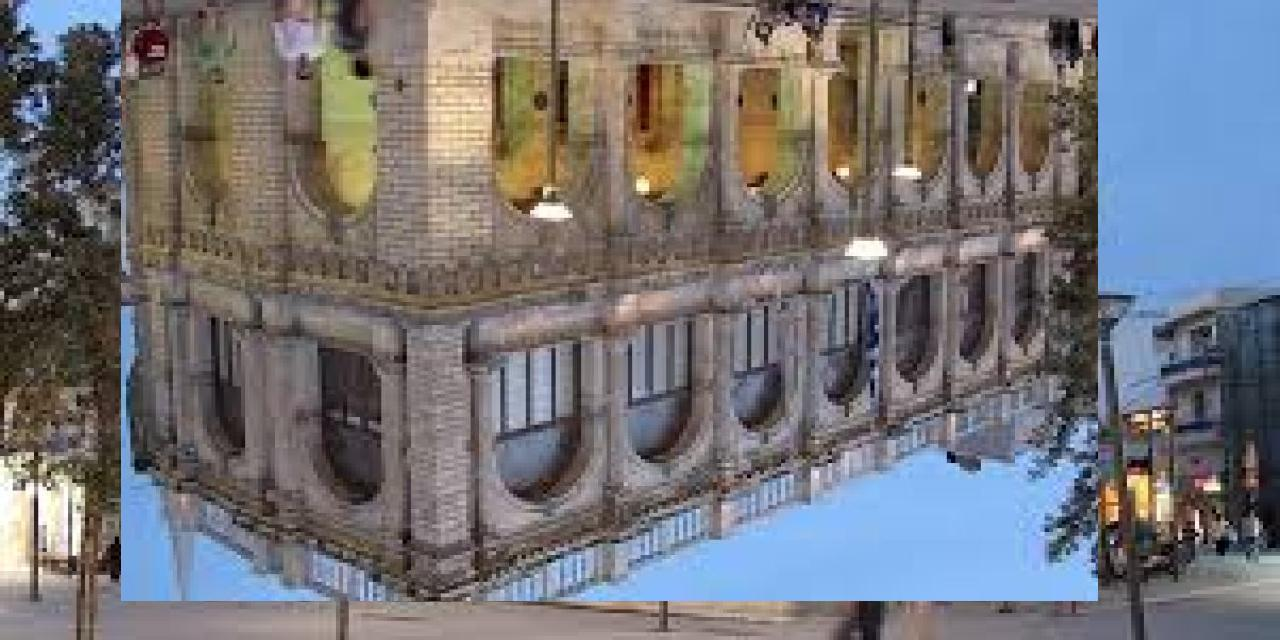Loggia: (122, 1, 1099, 602)
